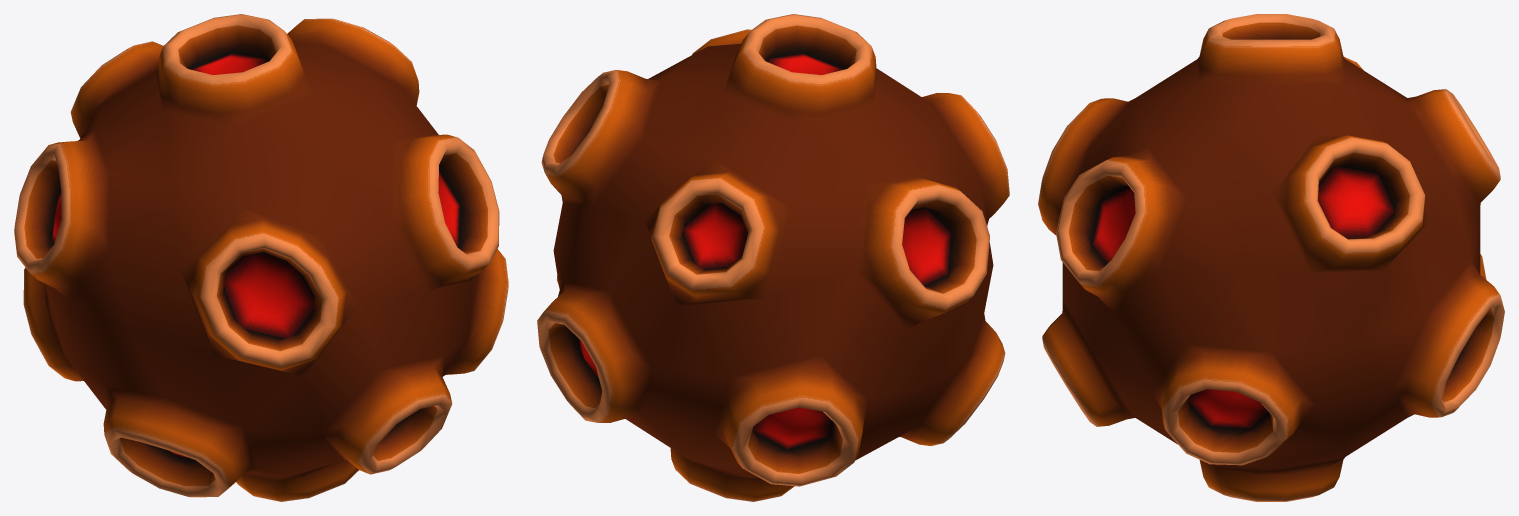
File: Object_Planet.FBX
3 renders of one model, left to right at view 1: azimuth 30°, elevation 25°; view 2: azimuth 150°, elevation 25°; view 3: azimuth 270°, elevation 25°, orthographic. The views are drawn at different scales.
Visible parts, largest first — view 1: planet; view 2: planet; view 3: planet.
Boxes of the visible parts, x1,y1,x2,y2 form: planet: [14, 14, 508, 501]; planet: [537, 14, 1009, 501]; planet: [1038, 14, 1504, 501].
Size of the model in its own units: 56.03 by 57.32 by 54.67.
